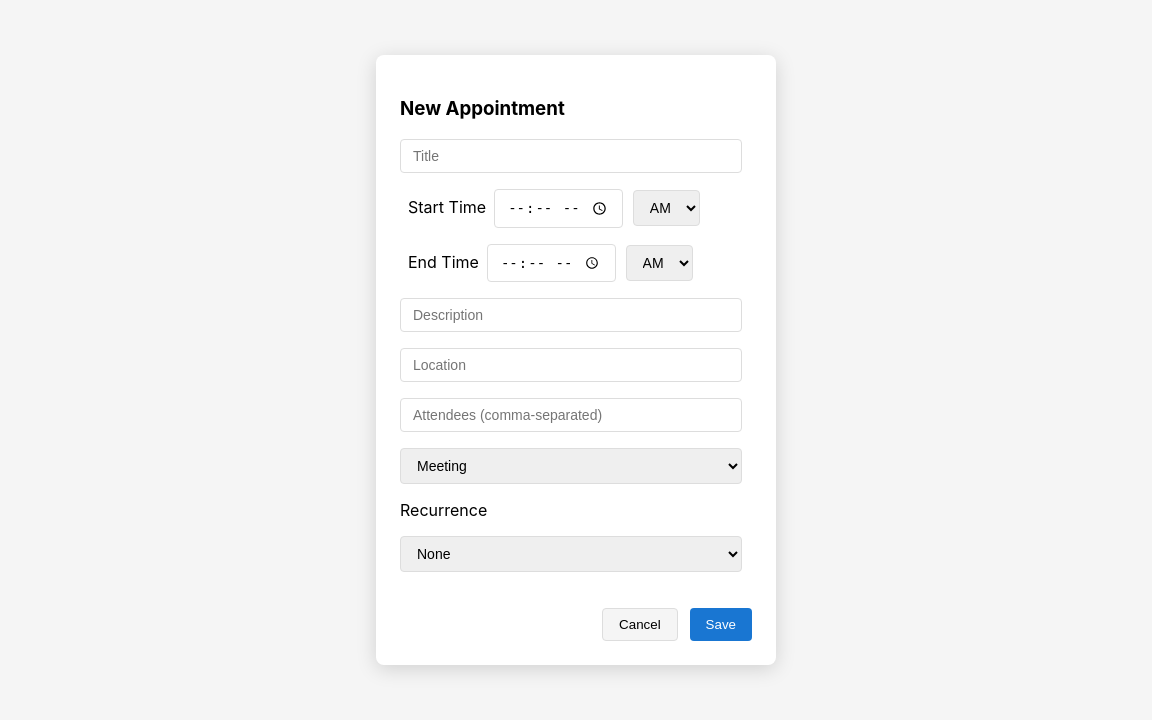
Scenario: Modal Component › shows correct interval text for different recurrence types
Note: Test Daily
Select "Daily" in the 4th dropdown showing "None": (571, 554) [400,536,742,572]
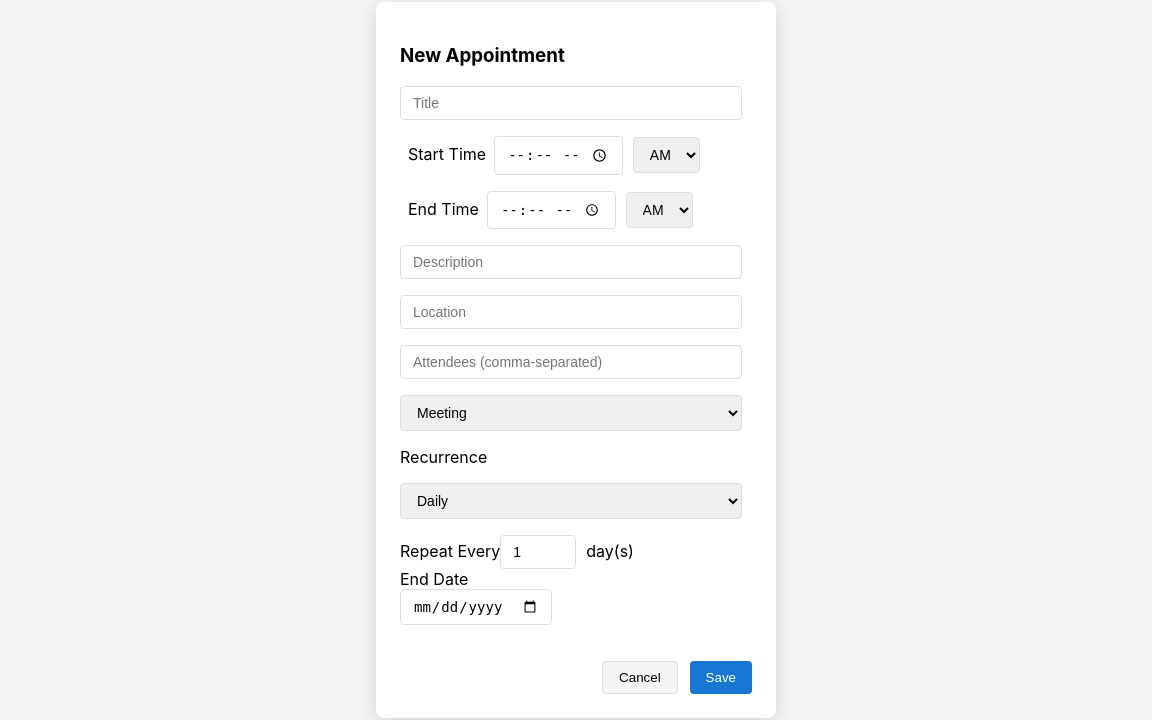
Check: the text "day(s)" is shown, box [586,541,634,561]
Note: Test Weekly
Select "Weekly" in the 4th dropdown showing "None": (571, 501) [400,483,742,519]
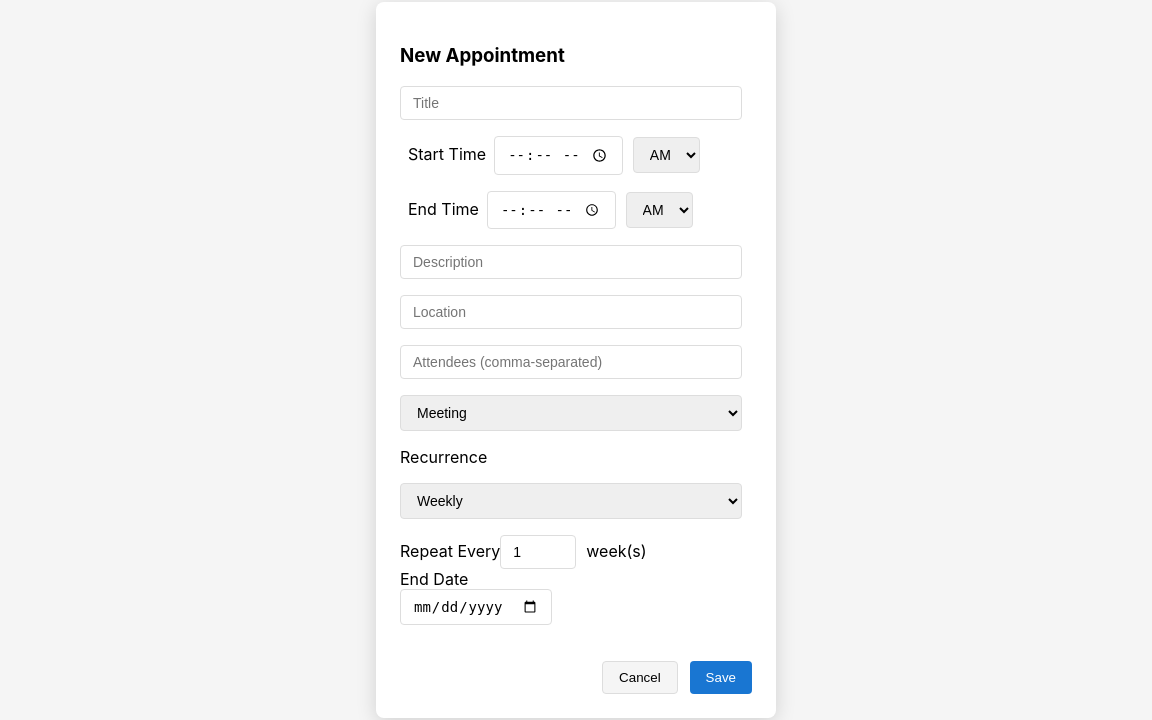
Check: the text "week(s)" is shown, box [586,541,647,561]
Note: Test Monthly
Select "Monthly" in the 4th dropdown showing "None": (571, 501) [400,483,742,519]
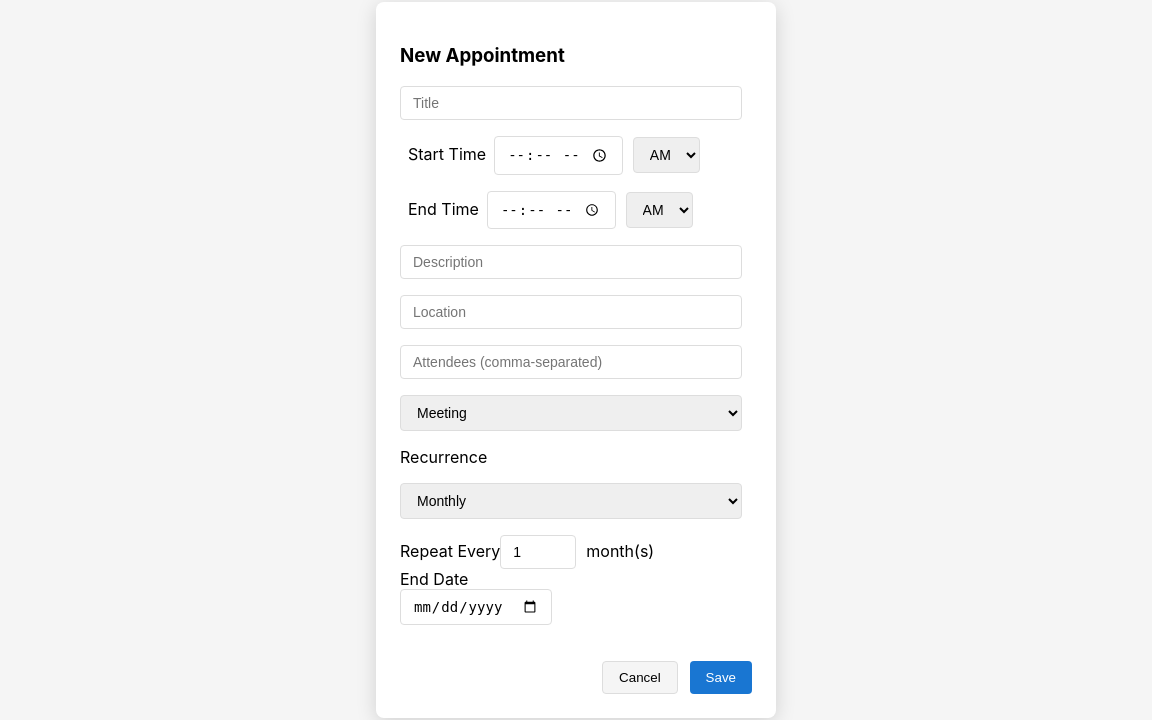
Check: the text "month(s)" is shown, box [586,541,654,561]
